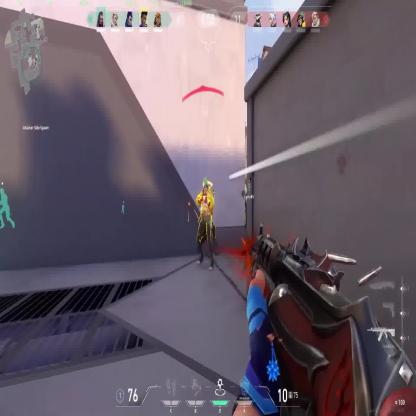enemy: (196, 176, 216, 271)
enemy_head: (203, 177, 209, 195)
